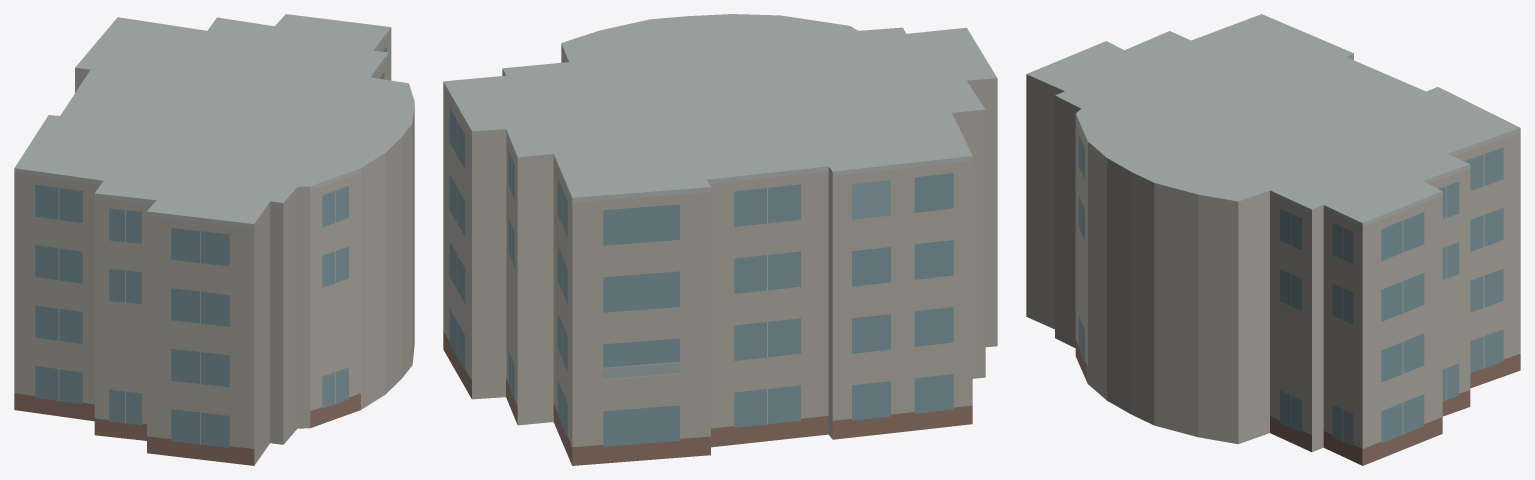
Rendered from survey-upis-32967415.glb.
The picture shows the model from 3 angles, left to right: view 1: azimuth 30°, elevation 25°; view 2: azimuth 150°, elevation 25°; view 3: azimuth 270°, elevation 25°; orthographic projection. The views are drawn at different scales.
Parts seen in each view (by area): view 1: survey-upis-32967415.tmp; view 2: survey-upis-32967415.tmp; view 3: survey-upis-32967415.tmp.
Part boxes in pixels (x1,y1,x2,y2): survey-upis-32967415.tmp: (14,14,414,465); survey-upis-32967415.tmp: (443,14,997,465); survey-upis-32967415.tmp: (1026,14,1520,465).
Size of the model in its own units: 25.34 by 13.7 by 25.29.
